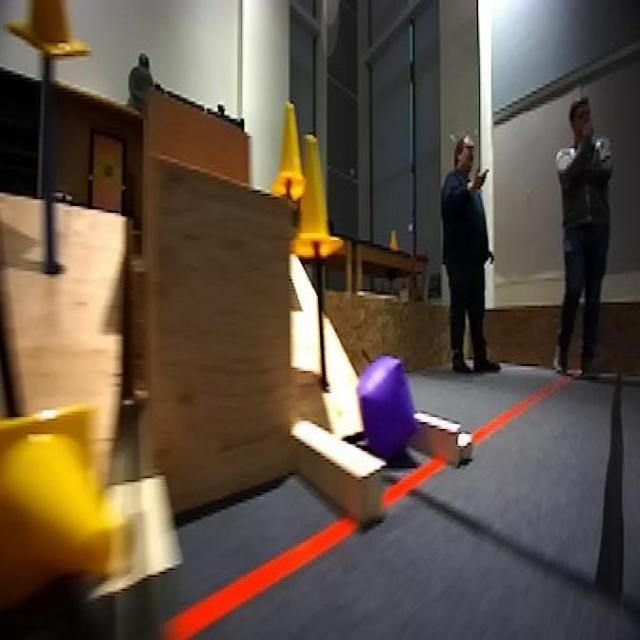frc_cone: (0, 401, 132, 597), (291, 131, 342, 260), (0, 0, 90, 61), (272, 102, 306, 199)
frc_cube: (357, 356, 415, 449)
